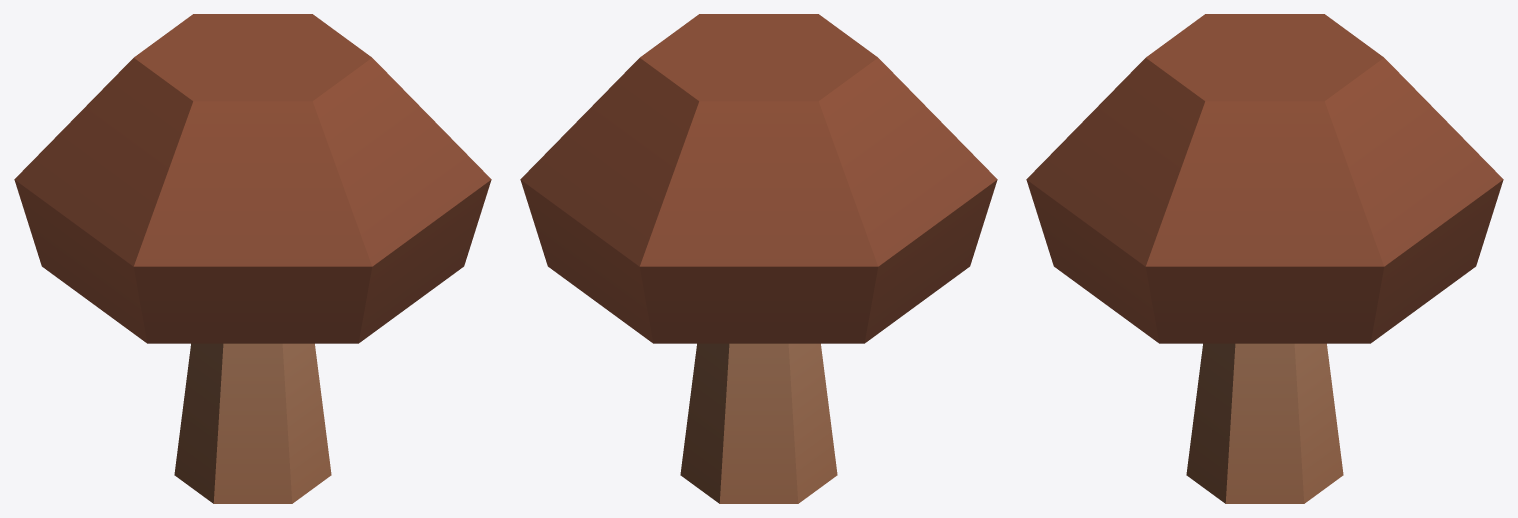
File: mushroom.glb
The picture shows the model from 3 angles, left to right: view 1: azimuth 30°, elevation 25°; view 2: azimuth 150°, elevation 25°; view 3: azimuth 270°, elevation 25°; orthographic projection.
Parts seen in each view (by area): view 1: geometry_0; view 2: geometry_0; view 3: geometry_0.
Boxes of the visible parts, bbox=[...] form: geometry_0: bbox=[14, 14, 491, 503]; geometry_0: bbox=[520, 14, 997, 503]; geometry_0: bbox=[1026, 14, 1503, 503].
Size of the model in its own units: 0.7446 by 0.83 by 0.8597.
